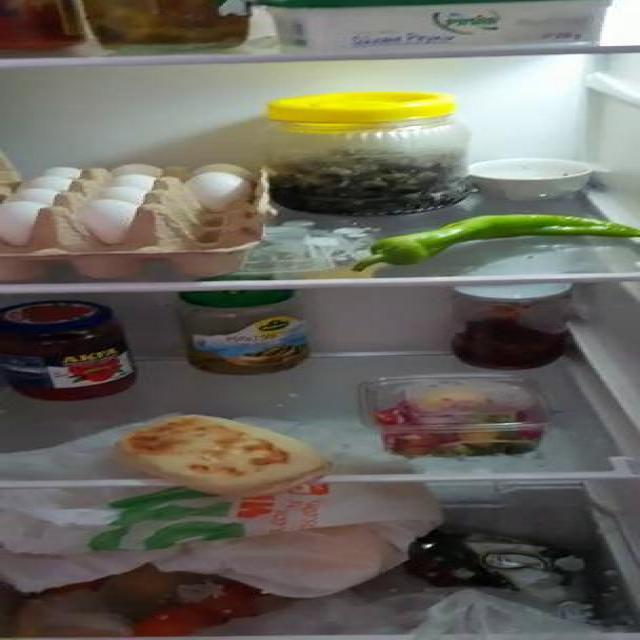bread: (124, 421, 329, 490)
cream cheese: (261, 0, 613, 45)
eggs: (4, 167, 250, 247)
green chilies: (360, 215, 639, 266)
olives: (269, 158, 472, 211)
